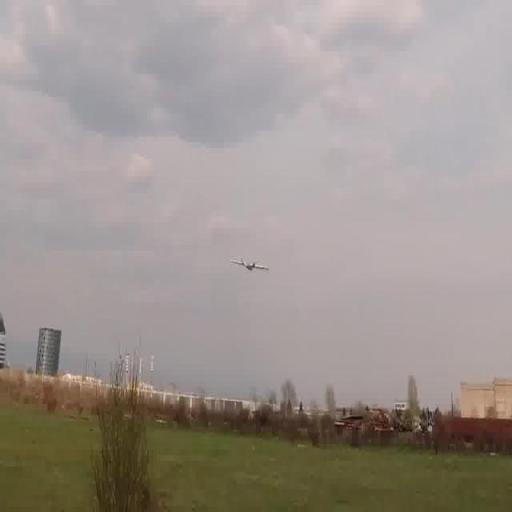uav: (230, 250, 271, 280)
